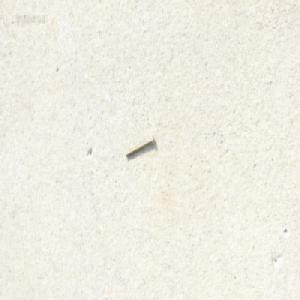Bolt: (124, 135, 154, 157)
